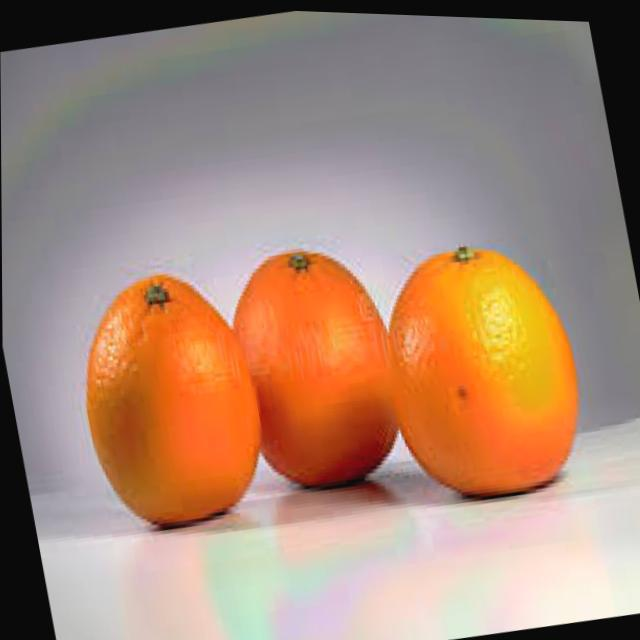orange: (365, 218, 595, 509), (62, 256, 275, 538), (219, 230, 415, 513)
